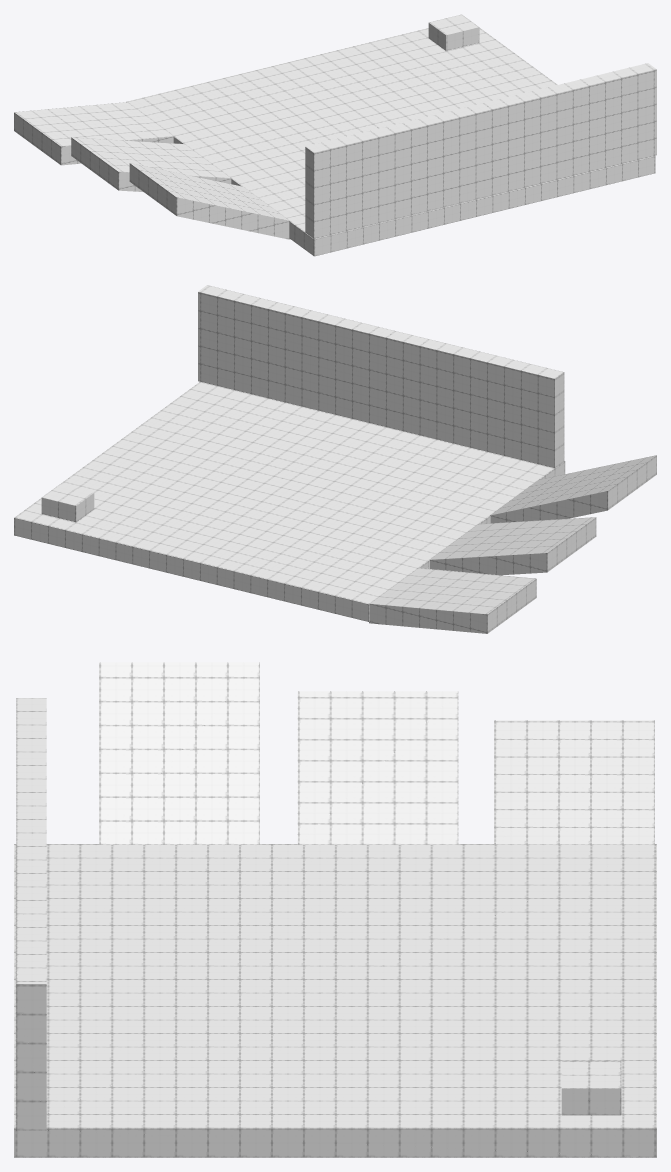
Rendered from StaticStageCol.fbx.
3 views of the same model, one above another, from view 1: azimuth 30°, elevation 25°; view 2: azimuth 150°, elevation 25°; view 3: azimuth 270°, elevation 25° (orthographic). The views are drawn at different scales.
Parts seen in each view (by area): view 1: Cube, Cube__1_, Cube__5_, Cube__3_, Cube__4_, Cube__2_; view 2: Cube, Cube__1_, Cube__3_, Cube__4_, Cube__5_, Cube__2_; view 3: Cube, Cube__5_, Cube__4_, Cube__3_, Cube__1_, Cube__2_.
Boxes of the visible parts, x1,y1,x2,y2 form: Cube: (126,27,655,256); Cube__1_: (305,63,656,238); Cube__5_: (129,163,290,239); Cube__3_: (14,102,174,165); Cube__4_: (71,137,231,191); Cube__2_: (428,14,479,50); Cube: (14,381,565,621); Cube__1_: (198,285,564,467); Cube__3_: (369,568,536,633); Cube__4_: (429,517,596,575); Cube__5_: (490,455,656,523); Cube__2_: (41,484,94,522); Cube: (14,844,656,1157); Cube__5_: (99,662,259,844); Cube__4_: (297,691,458,844); Cube__3_: (494,720,654,844); Cube__1_: (16,698,46,1130); Cube__2_: (561,1061,621,1115).
Bounding box in the file's own units: 2817 × 617 × 2013.
Materials: 1 (1 with a texture image).
